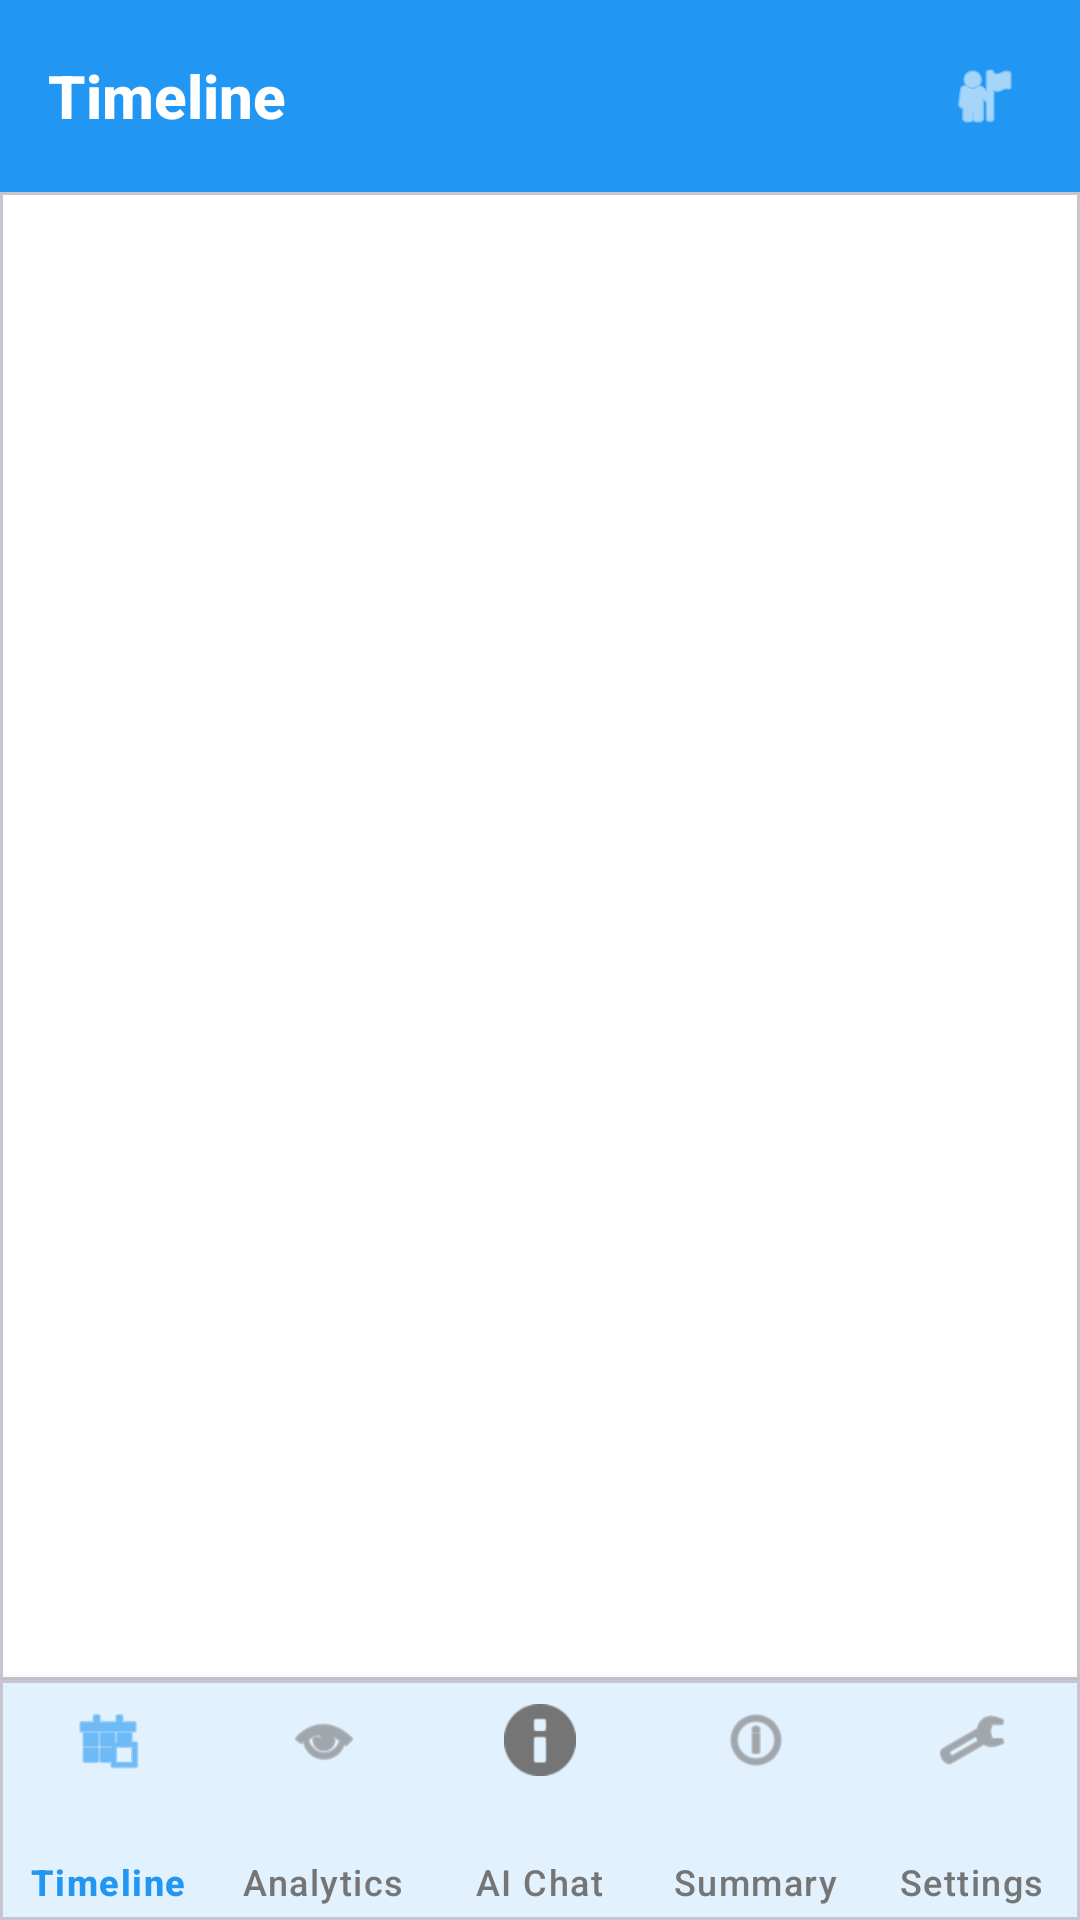

Locate icon controls on the screen. Image size 1080px x 1920px, boxes as [left=x1, top=y1, right=x2, bottom=y2].
Profile: [left=958, top=69, right=1012, bottom=123]
